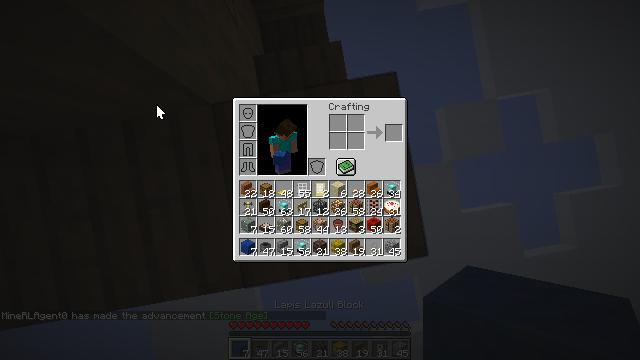cursor: (156, 104, 166, 120)
